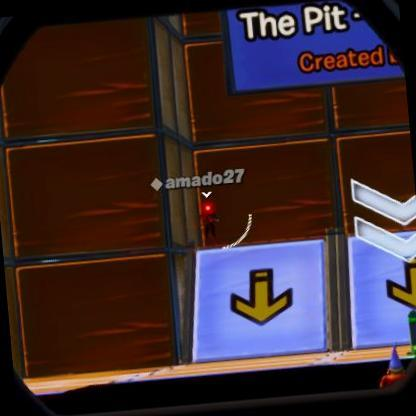person: (198, 198, 224, 250)
